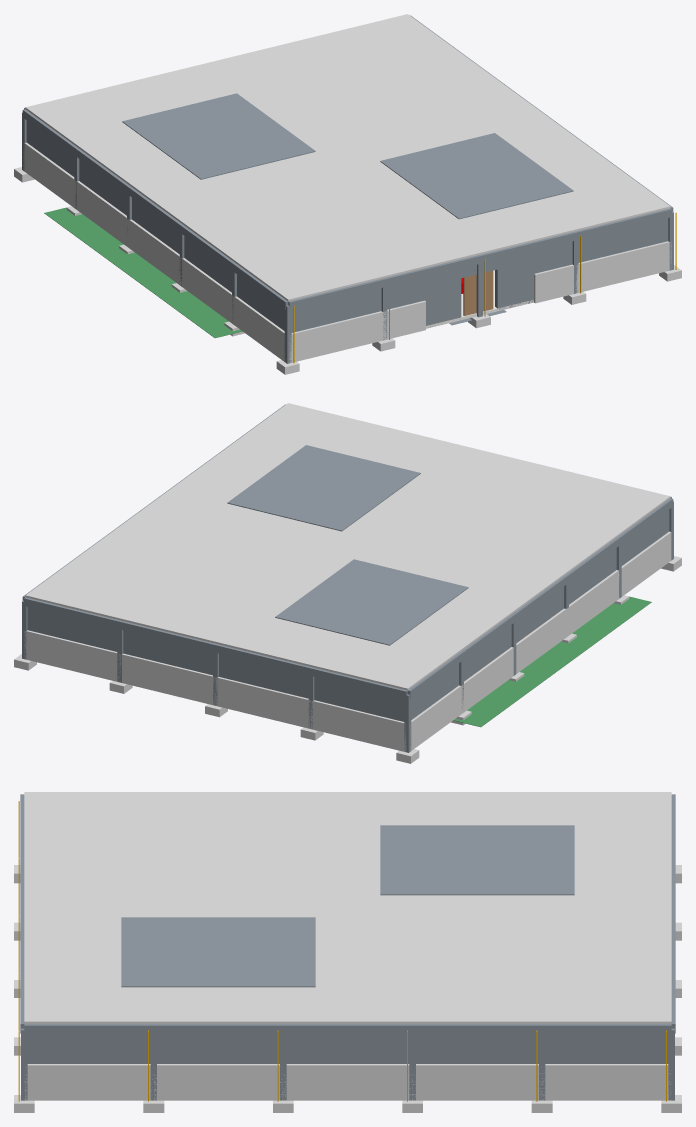
File: generated_building_26.glb
3 renders of one model, top to bottom at view 1: azimuth 30°, elevation 25°; view 2: azimuth 150°, elevation 25°; view 3: azimuth 270°, elevation 25°, orthographic. The views are drawn at different scales.
Parts seen in each view (by area): view 1: architectural, landscape, structural, doors; view 2: architectural, landscape, structural; view 3: architectural, landscape, structural, electrical.
Part boxes in pixels (bbox=[...]): architectural: bbox=[25, 14, 670, 332]; landscape: bbox=[23, 142, 671, 362]; structural: bbox=[14, 15, 681, 374]; doors: bbox=[463, 270, 493, 315]; architectural: bbox=[25, 403, 670, 721]; landscape: bbox=[24, 531, 671, 752]; structural: bbox=[14, 404, 681, 763]; architectural: bbox=[24, 792, 671, 1063]; landscape: bbox=[24, 1064, 671, 1100]; structural: bbox=[14, 794, 681, 1112]; electrical: bbox=[18, 801, 666, 1101].
Size of the model in its own units: 22.9 by 3.75 by 25.8.
